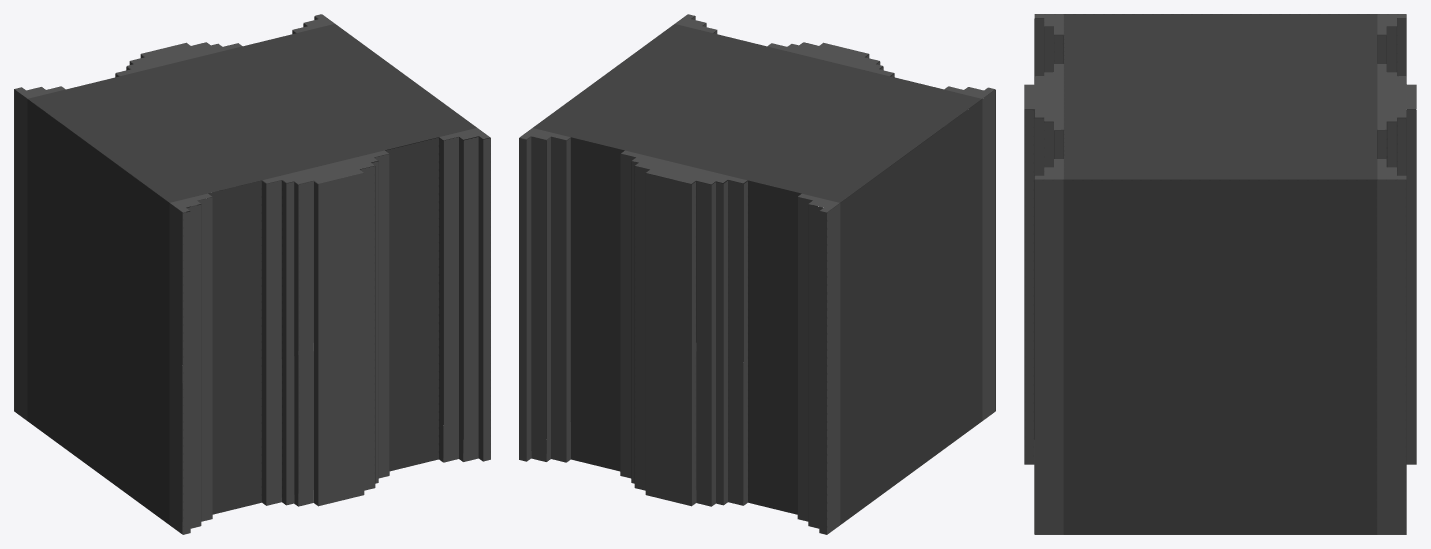
Rendered from CastleWall.fbx.
3 renders of one model, left to right at view 1: azimuth 30°, elevation 25°; view 2: azimuth 150°, elevation 25°; view 3: azimuth 270°, elevation 25°, orthographic. The views are drawn at different scales.
Parts seen in each view (by area): view 1: Castle wall; view 2: Castle wall; view 3: Castle wall.
Part boxes in pixels (<box>): Castle wall: <box>14,14,490,534</box>; Castle wall: <box>519,14,995,534</box>; Castle wall: <box>1024,14,1416,534</box>.
Bounding box in the file's own units: 400 × 400 × 400.
